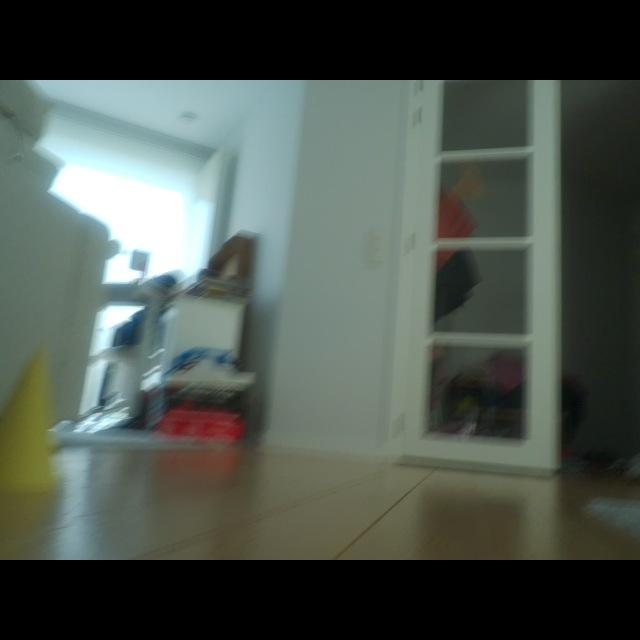bolya: (0, 350, 57, 492)
